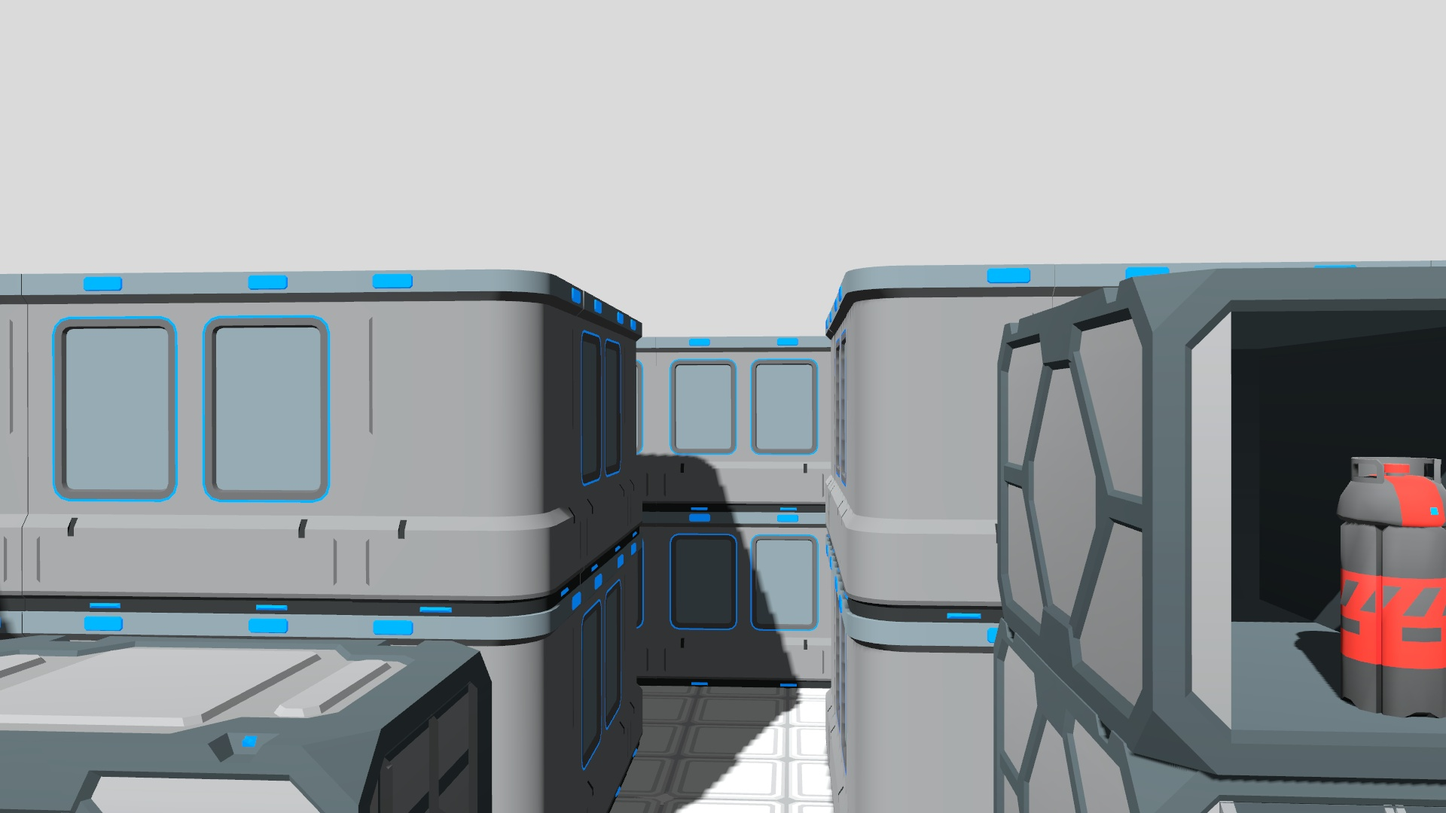red_barrel: (1331, 447, 1446, 718)
